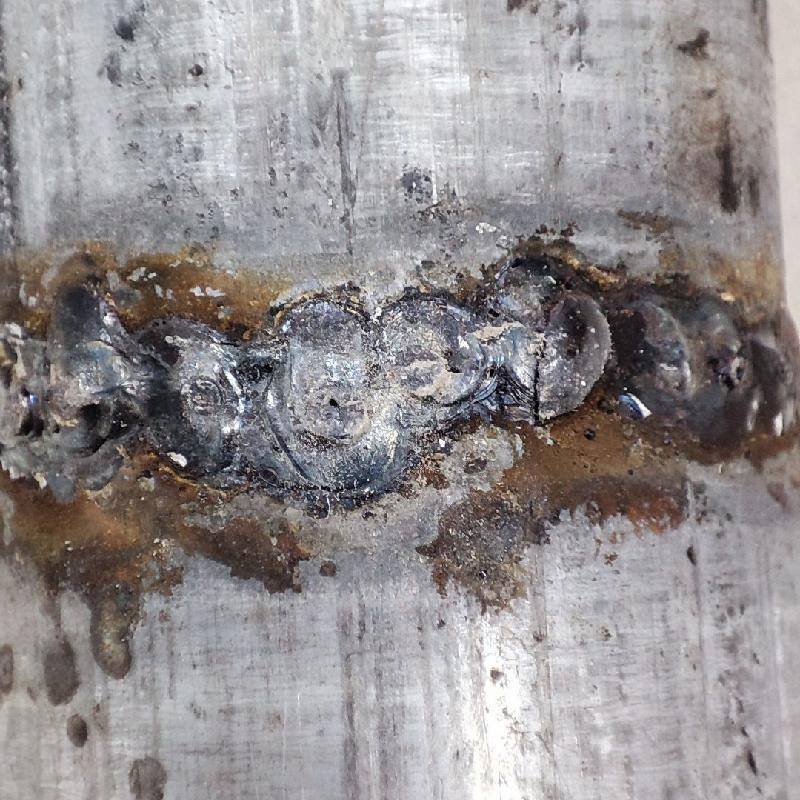Not_fully_soldered: (247, 282, 491, 495)
Surface_pores: (314, 383, 353, 431), (729, 356, 748, 390)
wrong_size: (506, 260, 799, 443), (0, 282, 243, 495)
